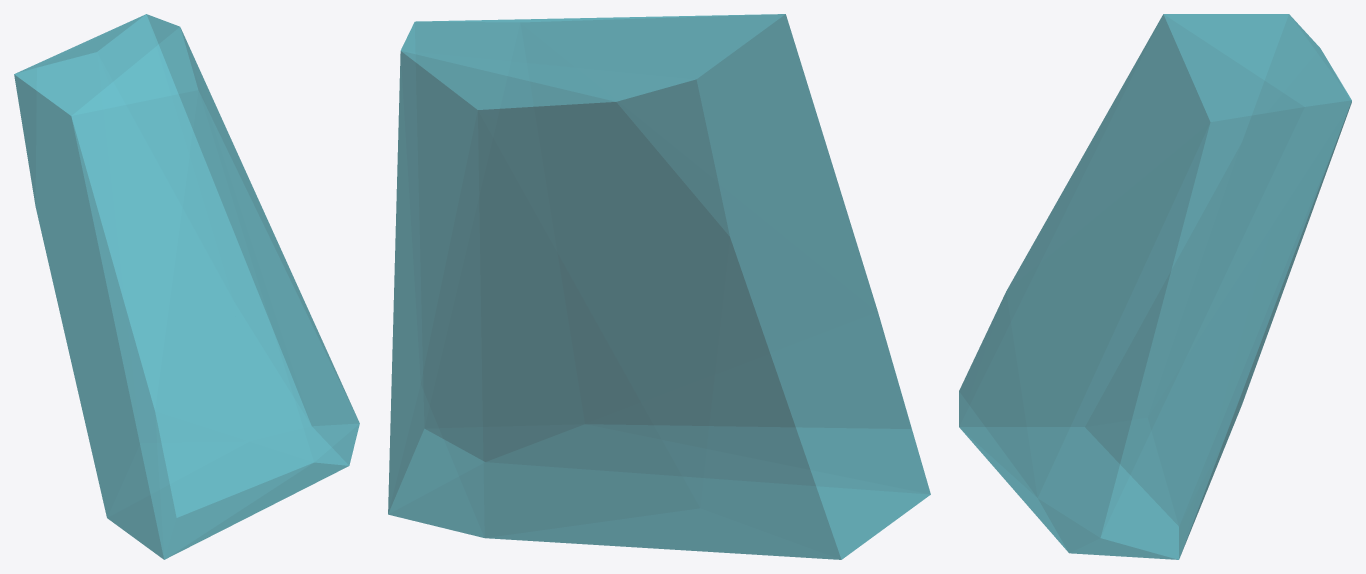
3 views of the same model, side by side, from view 1: azimuth 30°, elevation 25°; view 2: azimuth 150°, elevation 25°; view 3: azimuth 270°, elevation 25° (orthographic). The views are drawn at different scales.
Parts seen in each view (by area): view 1: Shape_IndexedFaceSet.031_Shape_IndexedFaceSet.5470; view 2: Shape_IndexedFaceSet.031_Shape_IndexedFaceSet.5470; view 3: Shape_IndexedFaceSet.031_Shape_IndexedFaceSet.5470.
Boxes of the visible parts, x1,y1,x2,y2 form: Shape_IndexedFaceSet.031_Shape_IndexedFaceSet.5470: (14, 14, 359, 559); Shape_IndexedFaceSet.031_Shape_IndexedFaceSet.5470: (388, 14, 930, 559); Shape_IndexedFaceSet.031_Shape_IndexedFaceSet.5470: (959, 14, 1351, 559).
Bounding box in the file's own units: 0.00945 × 0.0131 × 0.0112.
